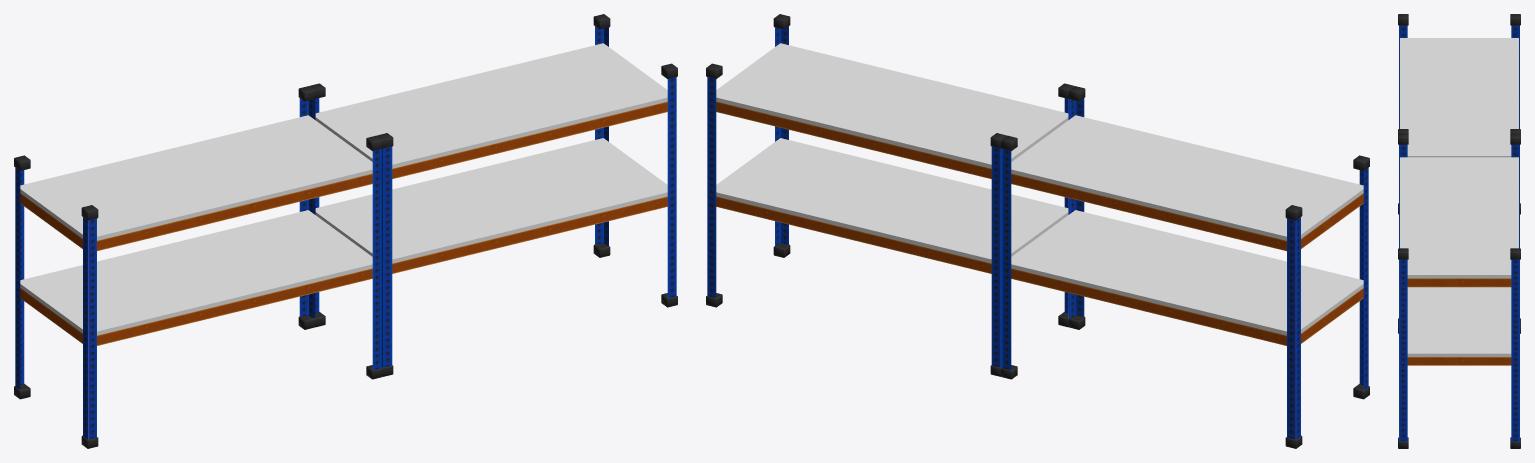
The model's file is shelf.dae.
The picture shows the model from 3 angles, left to right: view 1: azimuth 30°, elevation 25°; view 2: azimuth 150°, elevation 25°; view 3: azimuth 270°, elevation 25°; orthographic projection. The views are drawn at different scales.
Parts seen in each view (by area): view 1: Cupboard_2_2_Shelves; view 2: Cupboard_2_2_Shelves; view 3: Cupboard_2_2_Shelves.
Boxes of the visible parts, x1,y1,x2,y2 form: Cupboard_2_2_Shelves: (14, 14, 677, 448); Cupboard_2_2_Shelves: (706, 14, 1369, 448); Cupboard_2_2_Shelves: (1398, 14, 1520, 448).
Size of the model in its own units: 3.91 by 0.8489 by 1.5.
2 materials, 1 textured.
